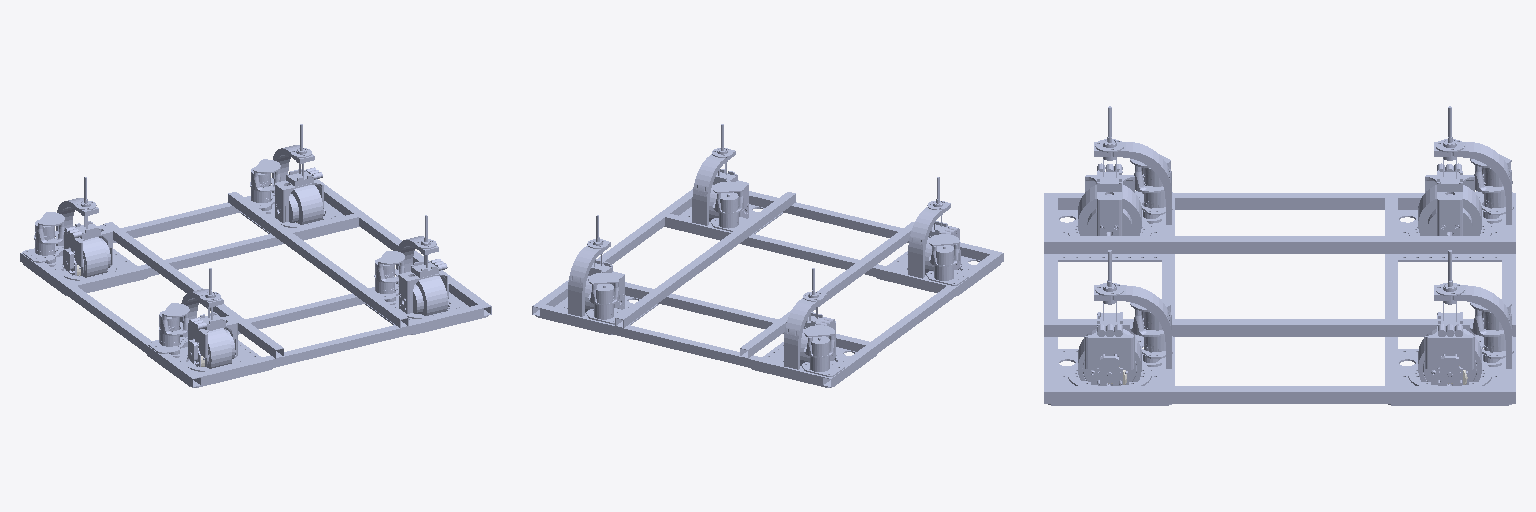
robot.urdf — urdfAssm2:
<?xml version="1.0" encoding="utf-8"?>
<!-- This URDF was automatically created by SolidWorks to URDF Exporter! Originally created by [author] ([email redacted]) 
     Commit Version: 1.6.0-4-g7f85cfe  Build Version: 1.6.7995.38578
     For more information, please see http://wiki.ros.org/sw_urdf_exporter -->
<robot
  name="urdfAssm2">
  <link
    name="base_link">
    <inertial>
      <origin
        xyz="-0.016740350844899 0.0307423784997515 -0.0323146494975246"
        rpy="0 0 0" />
      <mass
        value="1.83813014538573" />
      <inertia
        ixx="0.0126527136163981"
        ixy="-2.08028592840101E-05"
        ixz="1.89181976316372E-08"
        iyy="0.0214525871748862"
        iyz="-0.000346791397246124"
        izz="0.0108801705210895" />
    </inertial>
    <visual>
      <origin
        xyz="0 0 0"
        rpy="0 0 0" />
      <geometry>
        <mesh
          filename="package://urdfAssm2/meshes/base_link.STL" />
      </geometry>
      <material
        name="">
        <color
          rgba="0.792156862745098 0.819607843137255 0.933333333333333 1" />
      </material>
    </visual>
    <collision>
      <origin
        xyz="0 0 0"
        rpy="0 0 0" />
      <geometry>
        <mesh
          filename="package://urdfAssm2/meshes/base_link.STL" />
      </geometry>
    </collision>
  </link>
  <link
    name="swer1">
    <inertial>
      <origin
        xyz="0.00112932650883885 -0.0163068625808451 -0.00309777579378279"
        rpy="0 0 0" />
      <mass
        value="0.781511757095579" />
      <inertia
        ixx="0.000843060389202077"
        ixy="1.39670594351371E-05"
        ixz="-7.58494977239166E-06"
        iyy="0.000817015924616437"
        iyz="-3.73146040650031E-05"
        izz="0.000859803598059485" />
    </inertial>
    <visual>
      <origin
        xyz="0 0 0"
        rpy="0 0 0" />
      <geometry>
        <mesh
          filename="package://urdfAssm2/meshes/swer1.STL" />
      </geometry>
      <material
        name="">
        <color
          rgba="0.792156862745098 0.819607843137255 0.933333333333333 1" />
      </material>
    </visual>
    <collision>
      <origin
        xyz="0 0 0"
        rpy="0 0 0" />
      <geometry>
        <mesh
          filename="package://urdfAssm2/meshes/swer1.STL" />
      </geometry>
    </collision>
  </link>
  <joint
    name="rejo1"
    type="continuous">
    <origin
      xyz="0.26 -0.26 0"
      rpy="-1.5707963267949 0 -1.93881529154163" />
    <parent
      link="base_link" />
    <child
      link="swer1" />
    <axis
      xyz="0 1 0" />
  </joint>
  <link
    name="swer2">
    <inertial>
      <origin
        xyz="0.00112932650883885 -0.0163068625808454 -0.00309777579378301"
        rpy="0 0 0" />
      <mass
        value="0.78151175709558" />
      <inertia
        ixx="0.000843060389202078"
        ixy="1.39670594351372E-05"
        ixz="-7.58494977239191E-06"
        iyy="0.000817015924616439"
        iyz="-3.73146040650027E-05"
        izz="0.000859803598059486" />
    </inertial>
    <visual>
      <origin
        xyz="0 0 0"
        rpy="0 0 0" />
      <geometry>
        <mesh
          filename="package://urdfAssm2/meshes/swer2.STL" />
      </geometry>
      <material
        name="">
        <color
          rgba="0.792156862745098 0.819607843137255 0.933333333333333 1" />
      </material>
    </visual>
    <collision>
      <origin
        xyz="0 0 0"
        rpy="0 0 0" />
      <geometry>
        <mesh
          filename="package://urdfAssm2/meshes/swer2.STL" />
      </geometry>
    </collision>
  </link>
  <joint
    name="rejo2"
    type="continuous">
    <origin
      xyz="-0.26 -0.26 0"
      rpy="-1.5707963267949 0 1.20389866029615" />
    <parent
      link="base_link" />
    <child
      link="swer2" />
    <axis
      xyz="0 1 0" />
  </joint>
  <link
    name="swer3">
    <inertial>
      <origin
        xyz="0.00112932650883912 -0.0163068625808453 -0.00309777579378304"
        rpy="0 0 0" />
      <mass
        value="0.78151175709558" />
      <inertia
        ixx="0.000843060389202078"
        ixy="1.39670594351371E-05"
        ixz="-7.58494977239294E-06"
        iyy="0.000817015924616437"
        iyz="-3.73146040650033E-05"
        izz="0.000859803598059485" />
    </inertial>
    <visual>
      <origin
        xyz="0 0 0"
        rpy="0 0 0" />
      <geometry>
        <mesh
          filename="package://urdfAssm2/meshes/swer3.STL" />
      </geometry>
      <material
        name="">
        <color
          rgba="0.792156862745098 0.819607843137255 0.933333333333333 1" />
      </material>
    </visual>
    <collision>
      <origin
        xyz="0 0 0"
        rpy="0 0 0" />
      <geometry>
        <mesh
          filename="package://urdfAssm2/meshes/swer3.STL" />
      </geometry>
    </collision>
  </link>
  <joint
    name="rejo3"
    type="continuous">
    <origin
      xyz="0.26 0.26 0"
      rpy="-1.5707963267949 0 -1.93226228110303" />
    <parent
      link="base_link" />
    <child
      link="swer3" />
    <axis
      xyz="0 1 0" />
  </joint>
  <link
    name="swer4">
    <inertial>
      <origin
        xyz="0.00112932650883907 -0.0163068625808454 -0.00309777579378329"
        rpy="0 0 0" />
      <mass
        value="0.78151175709558" />
      <inertia
        ixx="0.000843060389202079"
        ixy="1.3967059435137E-05"
        ixz="-7.58494977239397E-06"
        iyy="0.000817015924616437"
        iyz="-3.73146040650027E-05"
        izz="0.000859803598059483" />
    </inertial>
    <visual>
      <origin
        xyz="0 0 0"
        rpy="0 0 0" />
      <geometry>
        <mesh
          filename="package://urdfAssm2/meshes/swer4.STL" />
      </geometry>
      <material
        name="">
        <color
          rgba="0.792156862745098 0.819607843137255 0.933333333333333 1" />
      </material>
    </visual>
    <collision>
      <origin
        xyz="0 0 0"
        rpy="0 0 0" />
      <geometry>
        <mesh
          filename="package://urdfAssm2/meshes/swer4.STL" />
      </geometry>
    </collision>
  </link>
  <joint
    name="rejo4"
    type="continuous">
    <origin
      xyz="-0.26 0.26 0"
      rpy="-1.5707963267949 0 1.21649767020403" />
    <parent
      link="base_link" />
    <child
      link="swer4" />
    <axis
      xyz="0 1 0" />
  </joint>
#####
 <joint name="S1_wheel_joint" type="continuous">     
        <origin xyz="0 0 0" rpy="1.5707 0 0"/>      
        <parent link="swer1"/>          
        <child link="S1_wheel_link"/>    
        <axis xyz="0 1 0"/>     
    </joint>

    <link name="S1_wheel_link">
        <visual>
            <origin xyz="0 0 0" rpy="1.5707 0 0" />
            <geometry>
                <cylinder radius="0.035" length = "0.05"/>
            </geometry>
            <material name="white">
                <color rgba="1 1 1 0.9"/>    
            </material>
        </visual>
    </link>
<joint name="S2_wheel_joint" type="continuous">     
        <origin xyz="0 0 0" rpy="1.5707 0 0"/>      
        <parent link="swer2"/>          
        <child link="S2_wheel_link"/>    
        <axis xyz="0 1 0"/>     
    </joint>

    <link name="S2_wheel_link">
        <visual>
            <origin xyz="0 0 0" rpy="1.5707 0 0" />
            <geometry>
                <cylinder radius="0.035" length = "0.05"/>
            </geometry>
            <material name="white">
                <color rgba="1 1 1 0.9"/>    
            </material>
        </visual>
    </link>
<joint name="S3_wheel_joint" type="continuous">     
        <origin xyz="0 0 0" rpy="1.5707 0 0"/>      
        <parent link="swer3"/>          
        <child link="S3_wheel_link"/>    
        <axis xyz="0 1 0"/>     
    </joint>

    <link name="S3_wheel_link">
        <visual>
            <origin xyz="0 0 0" rpy="1.5707 0 0" />
            <geometry>
                <cylinder radius="0.035" length = "0.05"/>
            </geometry>
            <material name="white">
                <color rgba="1 1 1 0.9"/>    
            </material>
        </visual>
    </link>
<joint name="S4_wheel_joint" type="continuous">     
        <origin xyz="0 0 0" rpy="1.5707 0 0"/>      
        <parent link="swer4"/>          
        <child link="S4_wheel_link"/>    
        <axis xyz="0 1 0"/>     
    </joint>

    <link name="S4_wheel_link">
        <visual>
            <origin xyz="0 0 0" rpy="1.5707 0 0" />
            <geometry>
                <cylinder radius="0.035" length = "0.05"/>
            </geometry>
            <material name="white">
                <color rgba="1 1 1 0.9"/>    
            </material>
        </visual>
    </link>
</robot>

--- What the picture shows (computed from the rendered views, not written in the file) ---
Views: 3 orthographic renders of the robot side by side, from view 1: azimuth 30°, elevation 25°; view 2: azimuth 150°, elevation 25°; view 3: azimuth 270°, elevation 25°.
Model urdfAssm2 with 9 links and 8 joints (8 continuous), rooted at base_link, posed all joints at 0.
Visible links, largest first — view 1: base_link, swer2, swer1, swer4, swer3; view 2: base_link, swer3, swer1, swer4, swer2; view 3: base_link, swer1, swer4, swer2, swer3.
Link boxes in pixels (x1,y1,x2,y2): base_link: [20, 124, 491, 387]; swer2: [180, 312, 240, 371]; swer1: [395, 259, 456, 318]; swer4: [55, 221, 116, 280]; swer3: [271, 167, 331, 227]; base_link: [532, 124, 1003, 387]; swer3: [567, 260, 628, 314]; swer1: [709, 169, 752, 222]; swer4: [783, 312, 843, 366]; swer2: [907, 221, 968, 275]; base_link: [1044, 106, 1515, 405]; swer1: [1068, 312, 1151, 385]; swer4: [1408, 163, 1491, 235]; swer2: [1068, 163, 1151, 235]; swer3: [1408, 312, 1491, 385].
Size in the robot's own frame: 0.72 by 0.72 by 0.2363 metres.
5 mesh visuals loaded from 5 distinct referenced files (5 binary STL).
